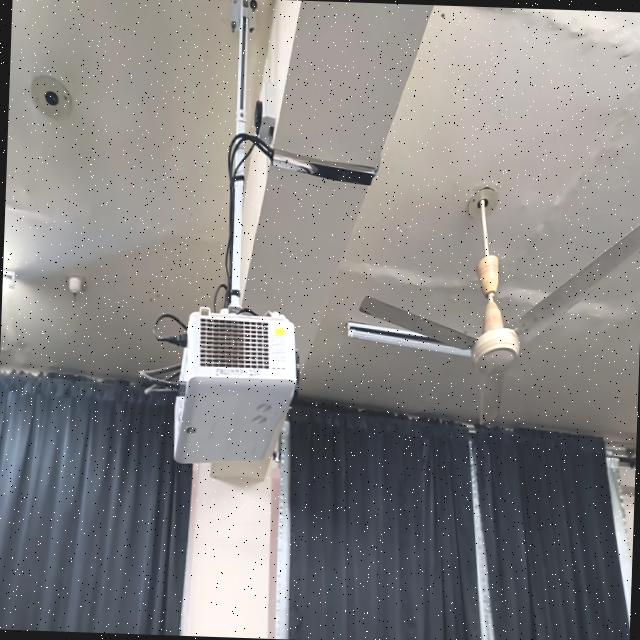Light: (346, 320, 469, 354), (0, 268, 16, 348)
Projector: (173, 307, 296, 462)
